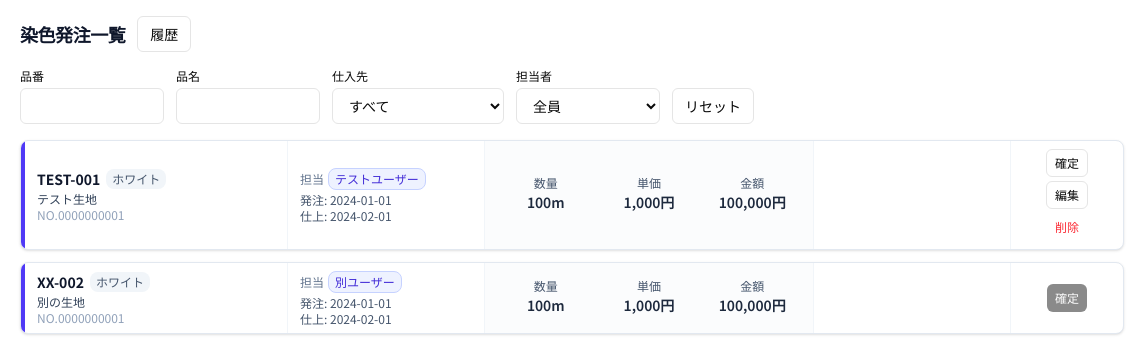
Test: FabricDyeingOrderTable フィルター › リセットを押すと絞り込みが解除される
Type "TEST" into the field labelled "品番" at (92, 106), box [20,88,164,124]
Wait 300 ms
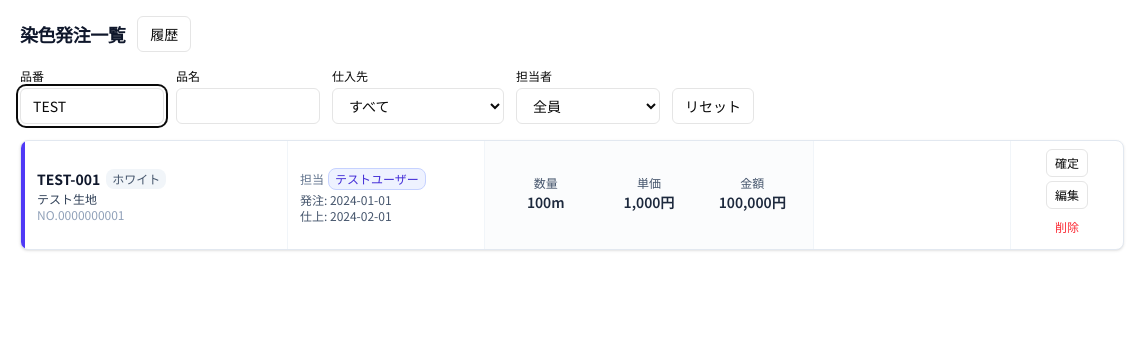
Click the button "リセット" at (713, 106), box [672,88,754,124]
Wait 300 ms
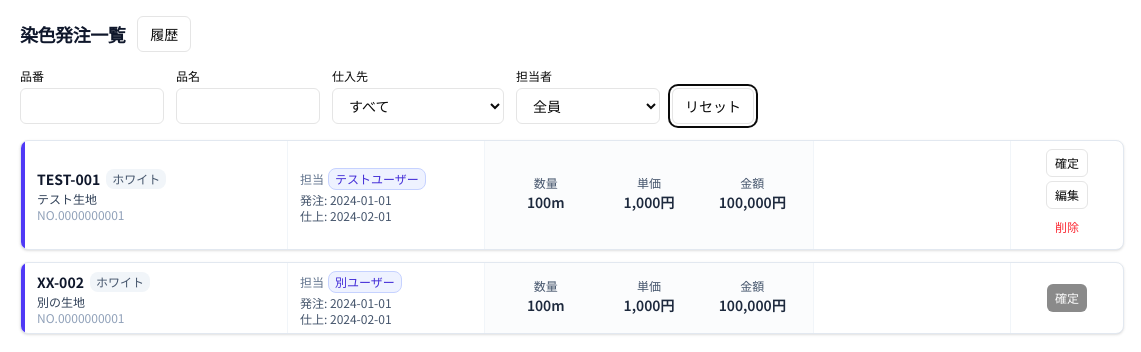
Now the field labelled "品番" is empty, box [20,88,164,124]
Now the text "XX-002" is shown, box [37,275,84,289]
